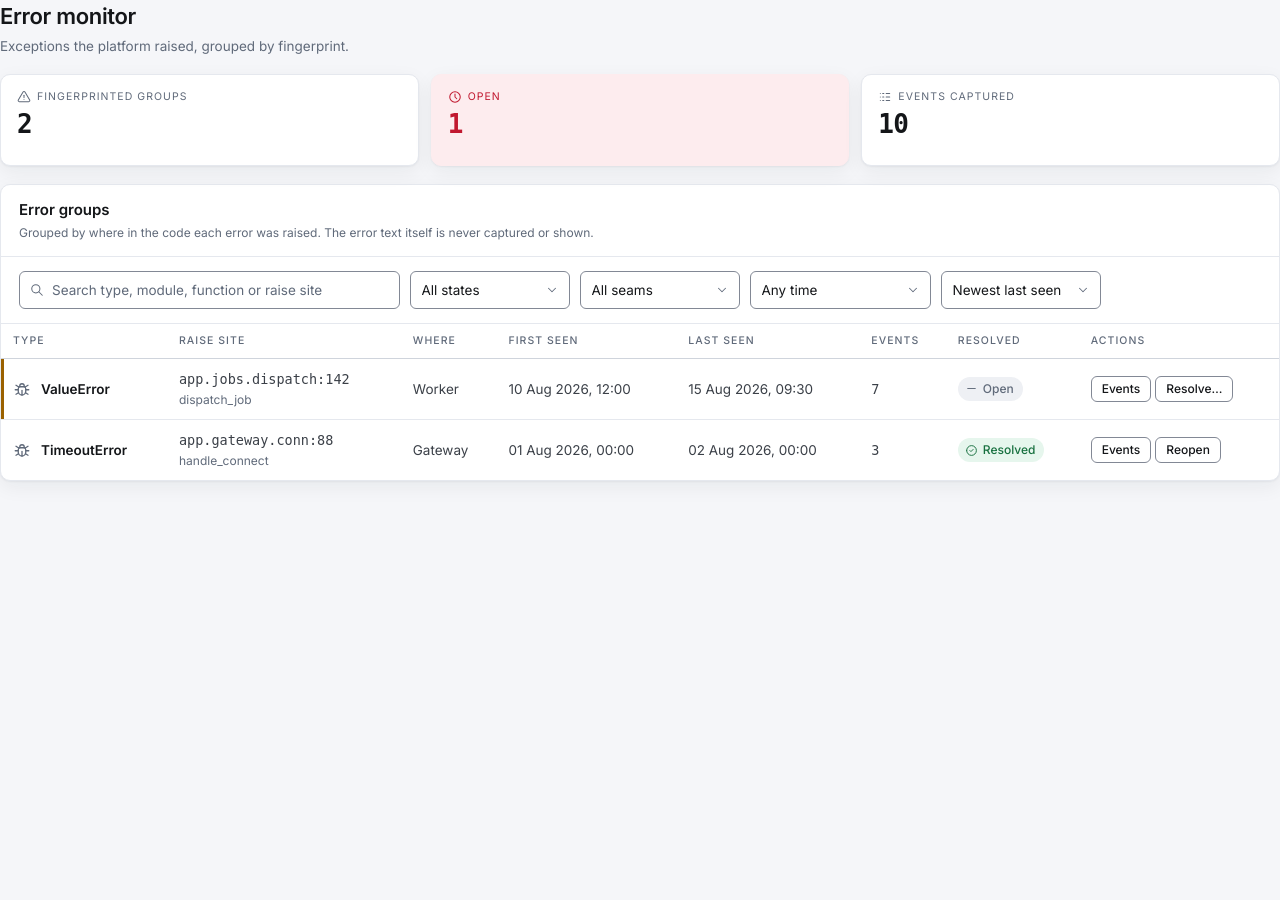
Test: ErrorMonitorPage resolve confirmation › resolves nothing when the confirmation is cancelled
The width and height of the screenshot is (1280, 900).
Click the button "Resolve…".
click(1194, 389)  # box [1155,376,1233,402]
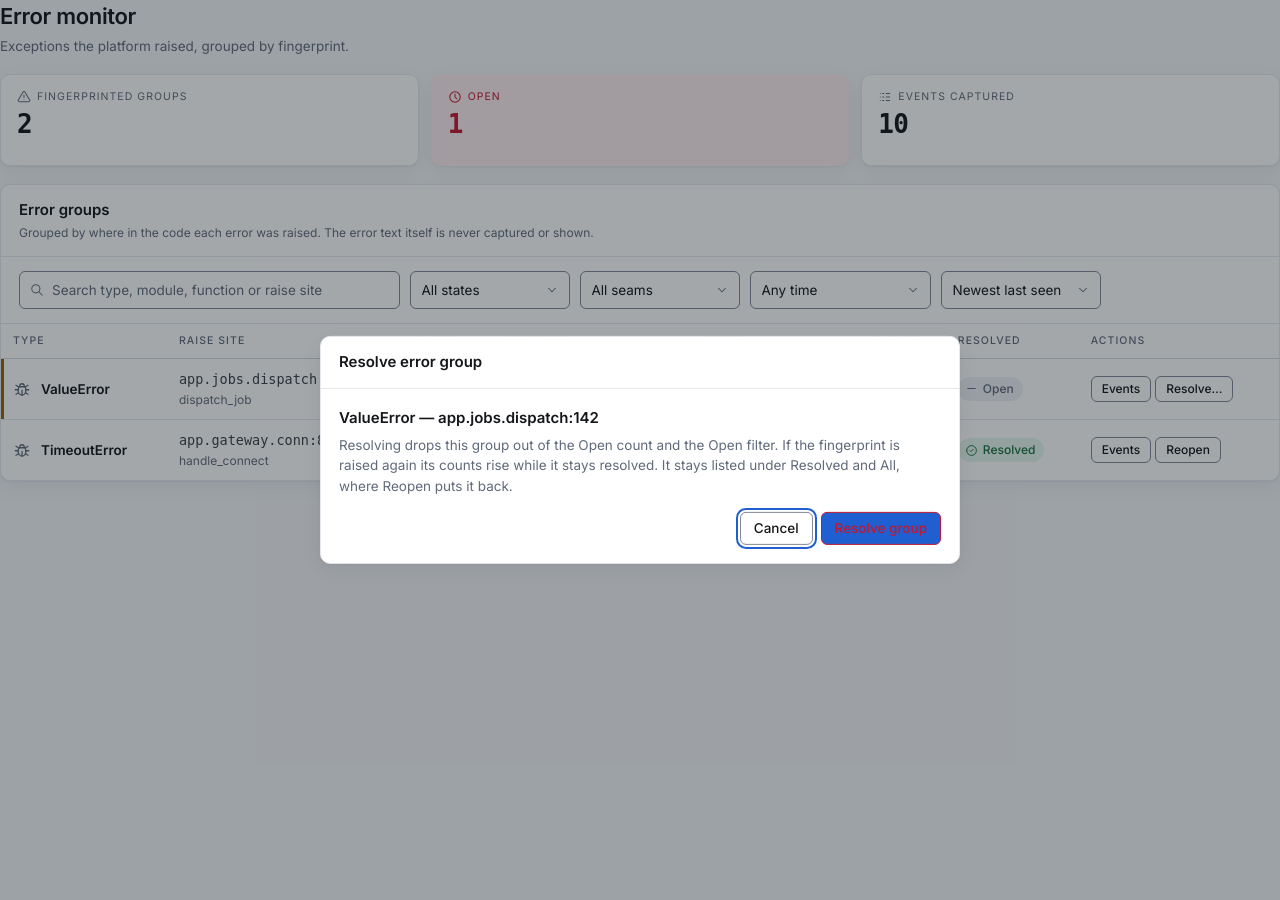
Click the button "Cancel".
click(776, 528)  # box [740,512,813,545]
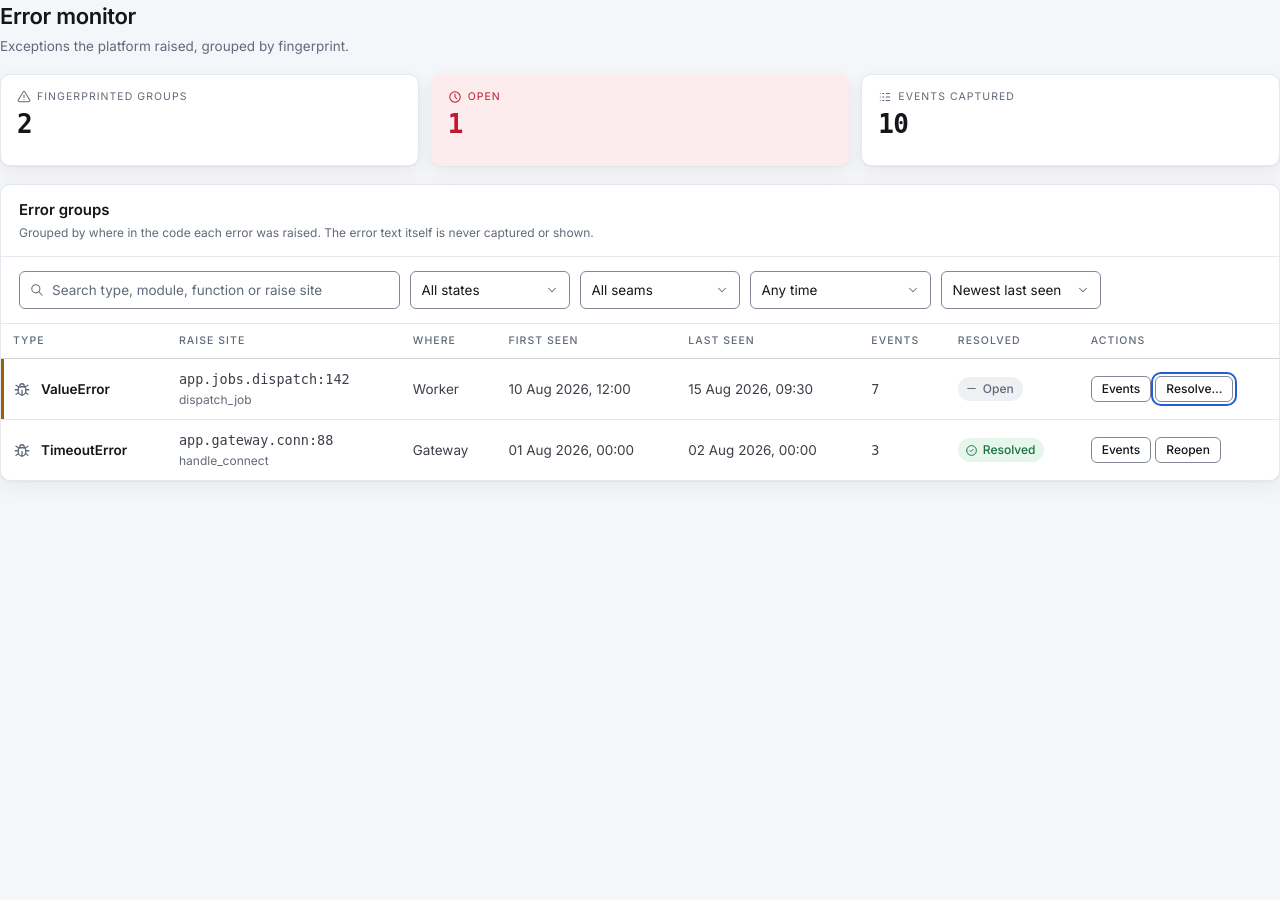
Expected: the dialog is gone
